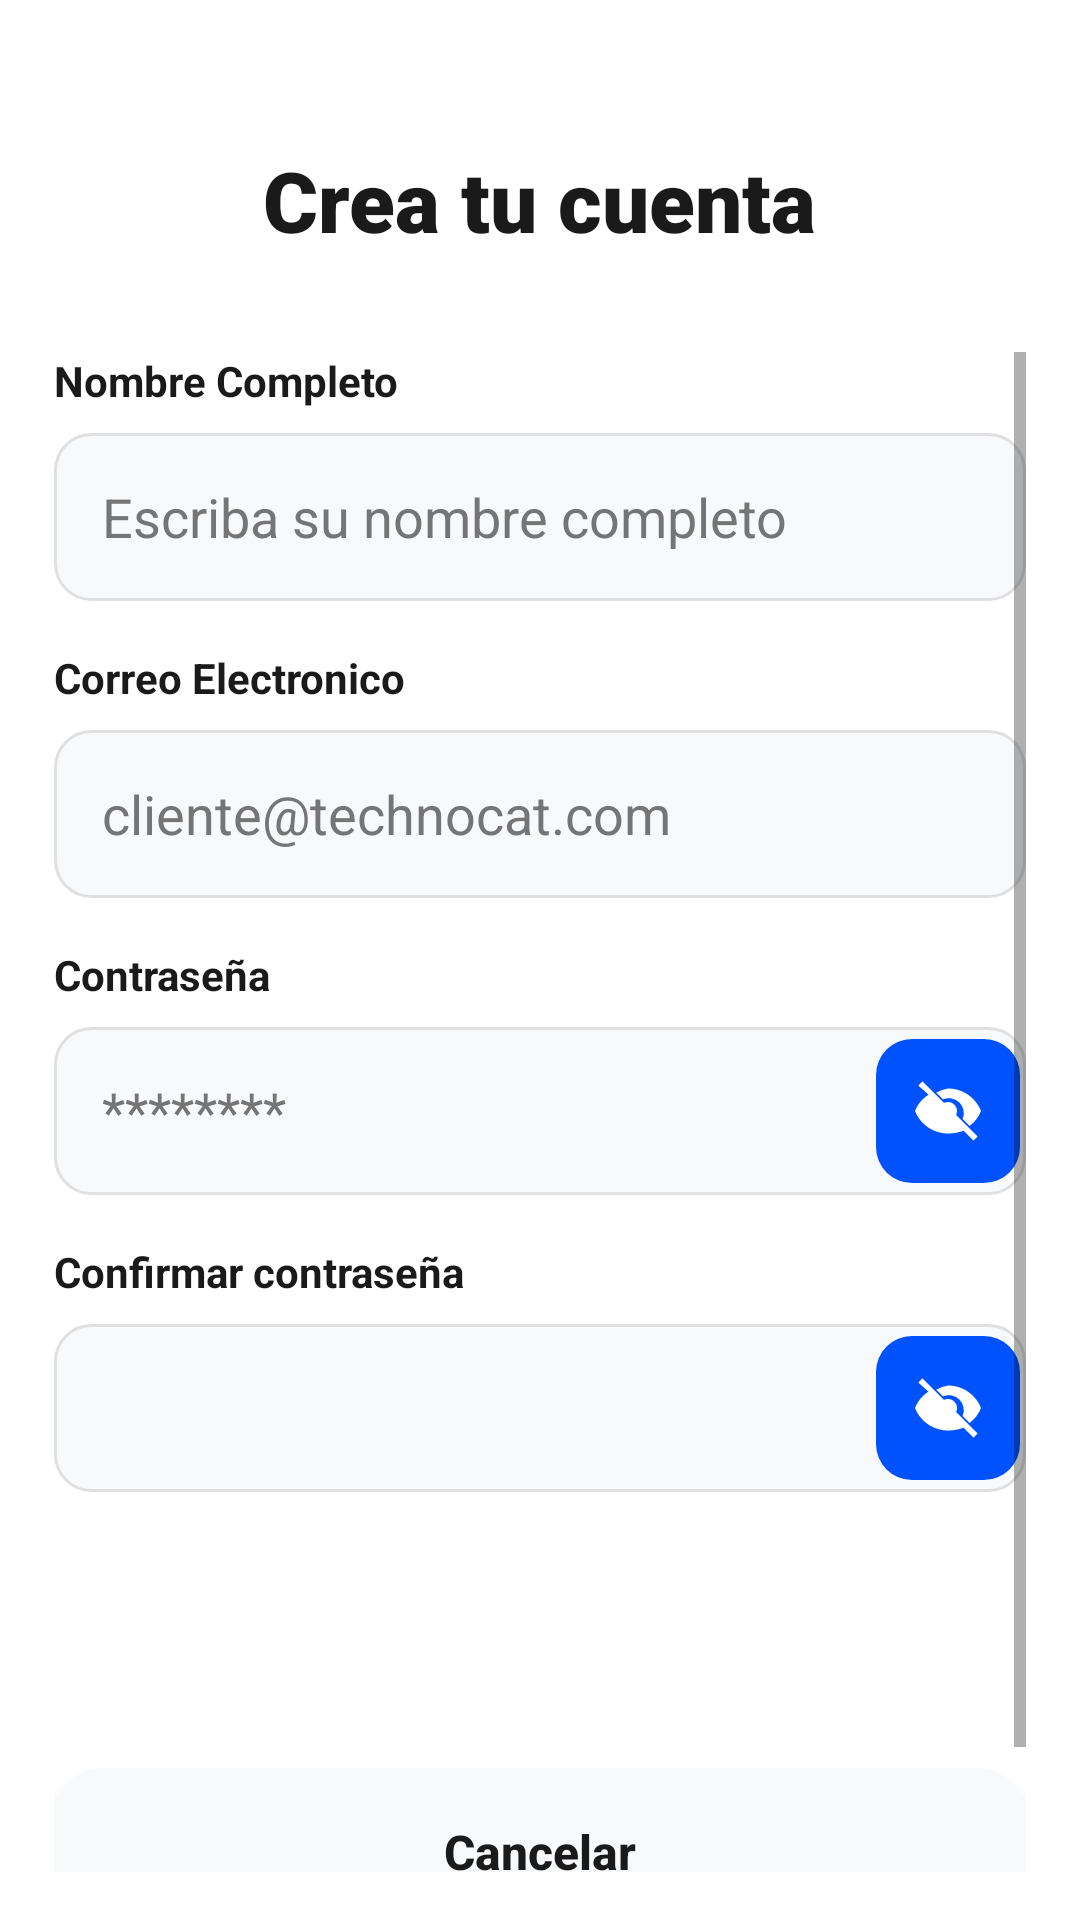

Where icons sit on this 1080px×1920px app screen, as (x1, y1, x2, y2):
Mostrar contraseña: (876, 1039, 1020, 1183), (876, 1336, 1020, 1480)
